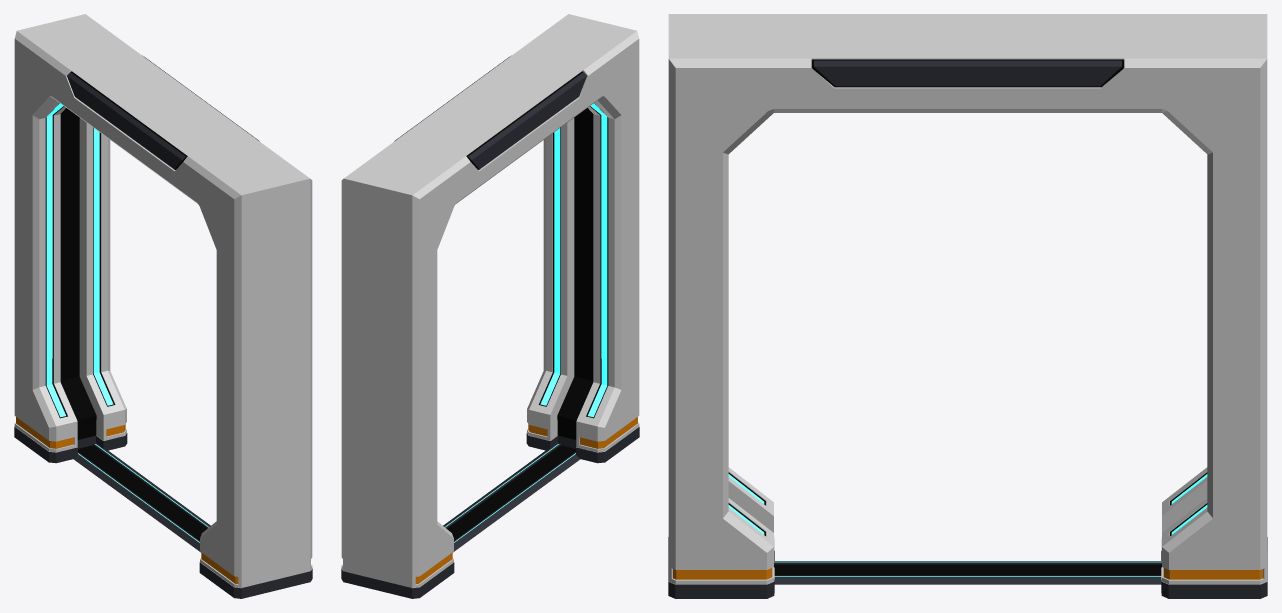
The model's file is doorframe_double.glb.
3 views of the same model, side by side, from view 1: azimuth 30°, elevation 25°; view 2: azimuth 150°, elevation 25°; view 3: azimuth 270°, elevation 25° (orthographic). The views are drawn at different scales.
Visible parts, largest first — view 1: SM_DoorFrame_Double; view 2: SM_DoorFrame_Double; view 3: SM_DoorFrame_Double.
Boxes of the visible parts, <box> form: SM_DoorFrame_Double: <box>14,14,312,598</box>; SM_DoorFrame_Double: <box>341,14,639,598</box>; SM_DoorFrame_Double: <box>668,14,1267,598</box>.
Size of the model in its own units: 0.4034 by 1.98 by 2.
